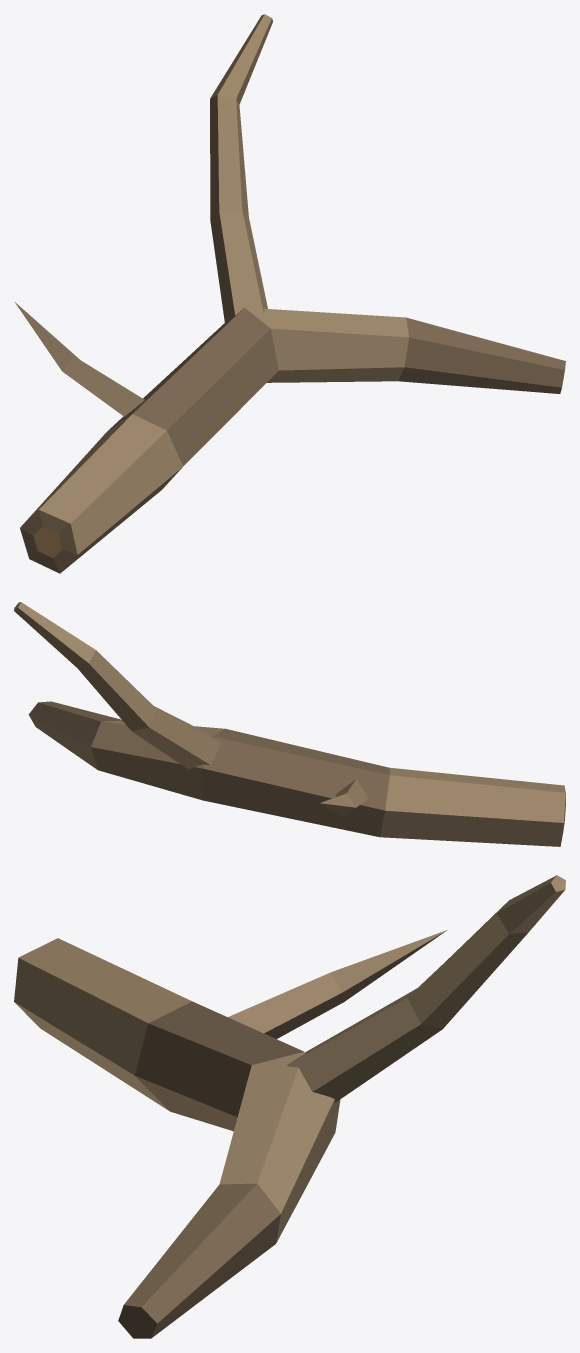
The model's file is driftwood.glb.
3 renders of one model, top to bottom at view 1: azimuth 30°, elevation 25°; view 2: azimuth 150°, elevation 25°; view 3: azimuth 270°, elevation 25°, orthographic. The views are drawn at different scales.
Parts seen in each view (by area): view 1: Body; view 2: Body; view 3: Body.
Boxes of the visible parts, x1,y1,x2,y2 form: Body: (15,14,565,573); Body: (14,602,565,846); Body: (14,875,565,1338).
Bounding box in the file's own units: 1.93 × 1.02 × 1.24.
